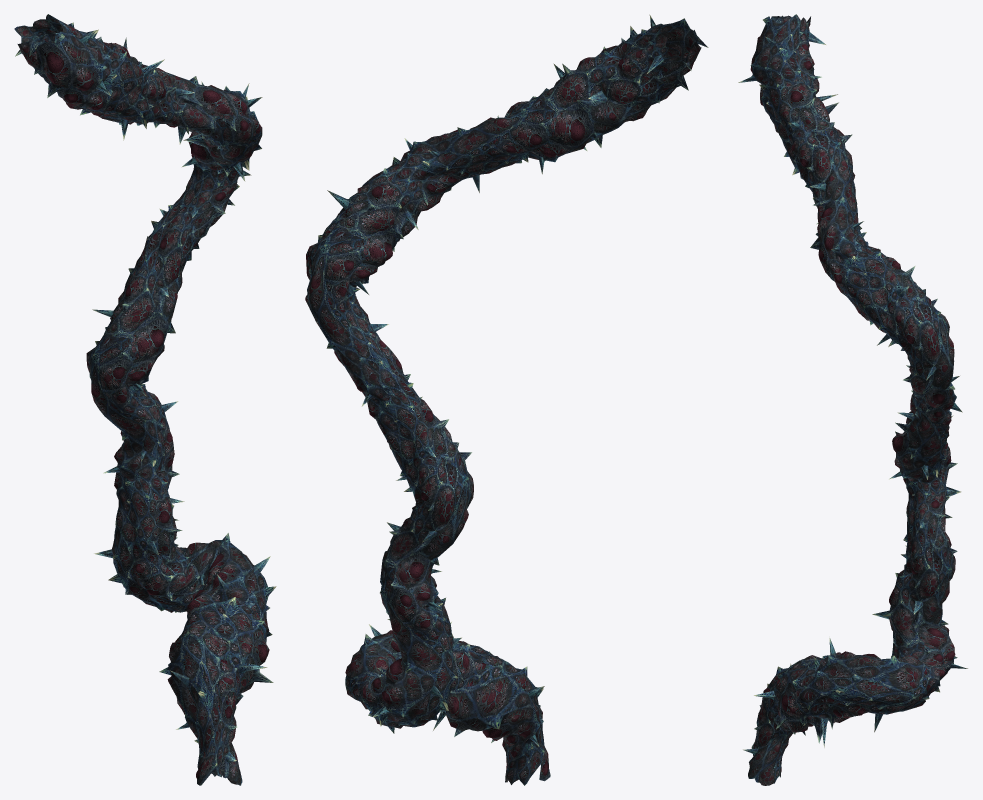
The model's file is L03_Heltree24.fbx.
The picture shows the model from 3 angles, left to right: view 1: azimuth 30°, elevation 25°; view 2: azimuth 150°, elevation 25°; view 3: azimuth 270°, elevation 25°; orthographic projection. The views are drawn at different scales.
Parts seen in each view (by area): view 1: LODGroup_1_MainMesh_1_SubMesh_2, LODGroup_1_MainMesh_1_SubMesh_1; view 2: LODGroup_1_MainMesh_1_SubMesh_1, LODGroup_1_MainMesh_1_SubMesh_2; view 3: LODGroup_1_MainMesh_1_SubMesh_2, LODGroup_1_MainMesh_1_SubMesh_1.
Part boxes in pixels (bbox=[...]): LODGroup_1_MainMesh_1_SubMesh_2: bbox=[14, 14, 276, 785]; LODGroup_1_MainMesh_1_SubMesh_1: bbox=[15, 30, 273, 785]; LODGroup_1_MainMesh_1_SubMesh_1: bbox=[305, 14, 708, 784]; LODGroup_1_MainMesh_1_SubMesh_2: bbox=[323, 18, 690, 785]; LODGroup_1_MainMesh_1_SubMesh_2: bbox=[749, 14, 957, 764]; LODGroup_1_MainMesh_1_SubMesh_1: bbox=[738, 15, 967, 785].
Bounding box in the file's own units: 1068 × 2605 × 781.
